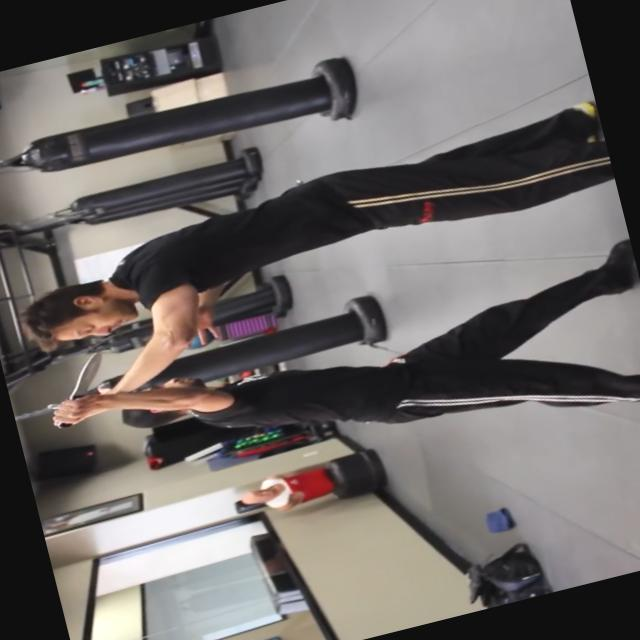knife: (34, 345, 122, 433)
